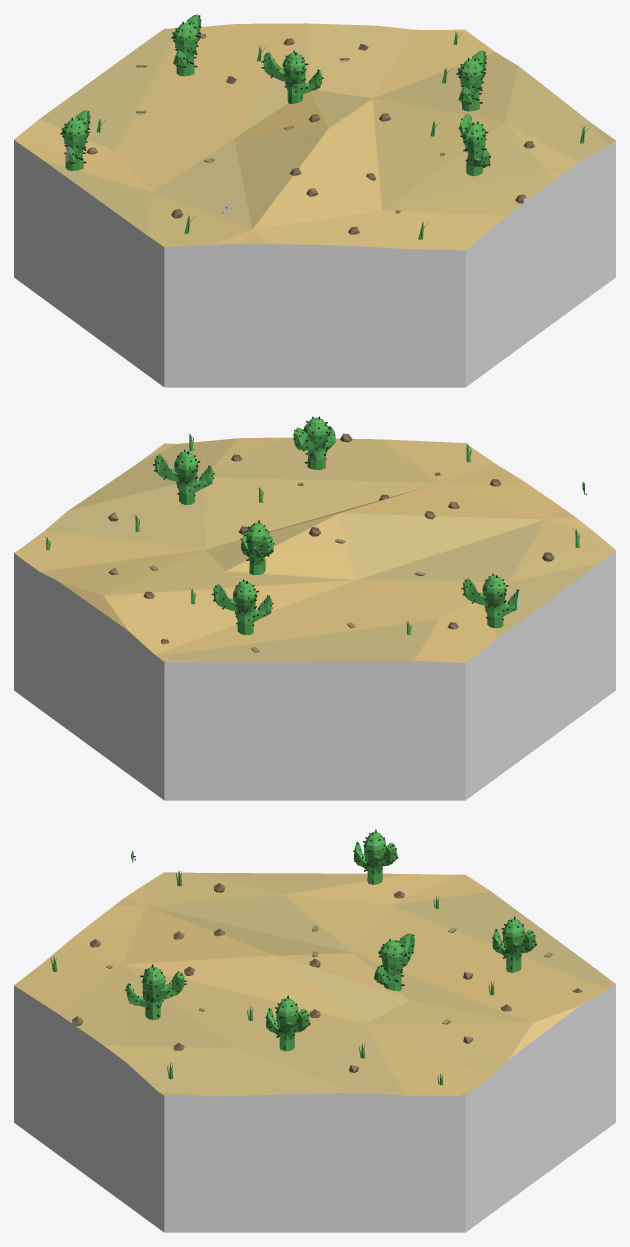
Rendered from center.glb.
The picture shows the model from 3 angles, top to bottom: view 1: azimuth 30°, elevation 25°; view 2: azimuth 150°, elevation 25°; view 3: azimuth 270°, elevation 25°; orthographic projection.
Parts seen in each view (by area): view 1: Cylinder; view 2: Cylinder; view 3: Cylinder.
Boxes of the visible parts, x1,y1,x2,y2 form: Cylinder: (14,14,615,387); Cylinder: (14,416,615,800); Cylinder: (14,829,615,1232).
Bounding box in the file's own units: 1.73 × 0.7184 × 2.
Materials: 2 (1 with a texture image).
